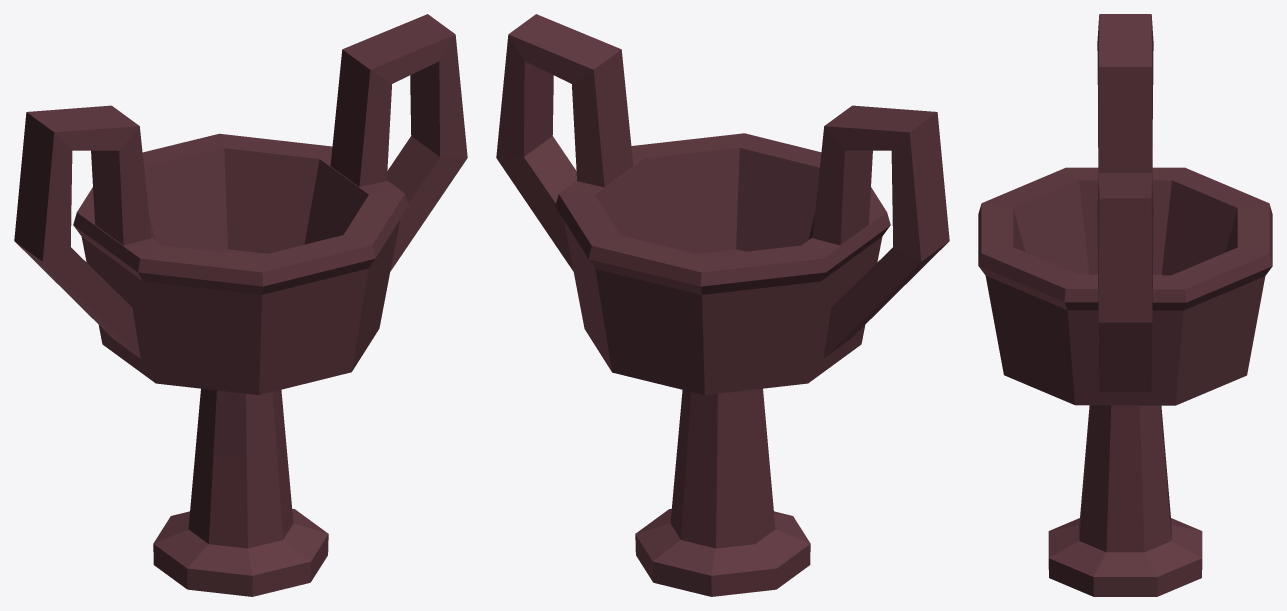
The model's file is SM_Vase_Kantharos_Empire.fbx.
3 renders of one model, left to right at view 1: azimuth 30°, elevation 25°; view 2: azimuth 150°, elevation 25°; view 3: azimuth 270°, elevation 25°, orthographic. The views are drawn at different scales.
Visible parts, largest first — view 1: SM_Vase_Kantharos_Empire; view 2: SM_Vase_Kantharos_Empire; view 3: SM_Vase_Kantharos_Empire.
Boxes of the visible parts, <box> form: SM_Vase_Kantharos_Empire: <box>14,14,467,596</box>; SM_Vase_Kantharos_Empire: <box>496,14,949,596</box>; SM_Vase_Kantharos_Empire: <box>978,14,1272,596</box>.
Size of the model in its own units: 0.4921 by 0.5387 by 0.3136.
